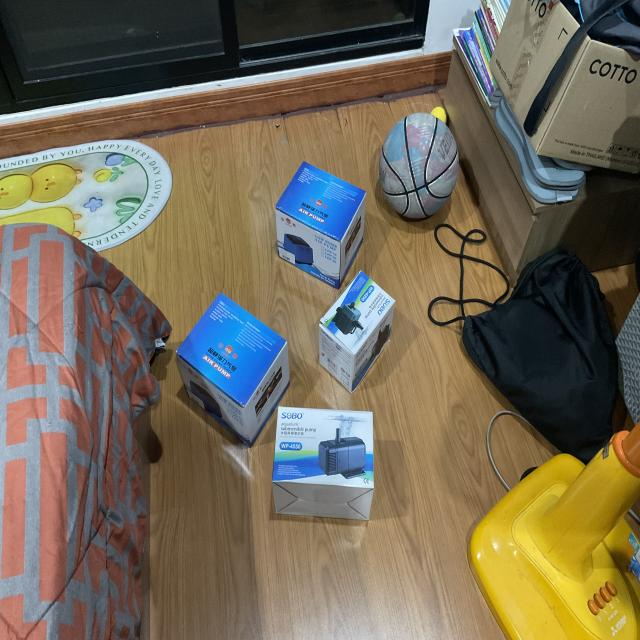SOBO_WP_4200: (270, 396, 385, 540), (319, 275, 417, 406)
YAMANO_LPP_20: (172, 284, 291, 439), (272, 151, 372, 292)
